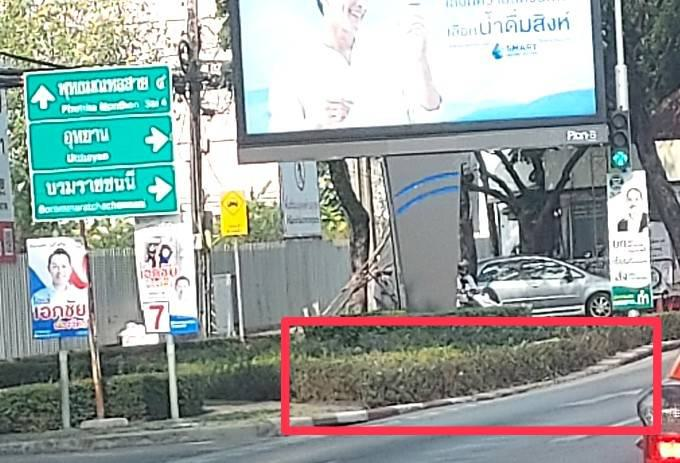Banner: (133, 227, 199, 335), (606, 170, 652, 311), (25, 241, 89, 339)
